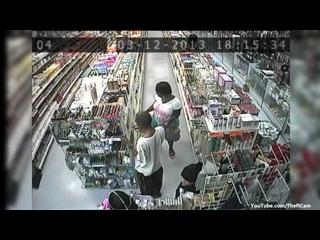Normal: (132, 111, 166, 198), (146, 82, 182, 160)
